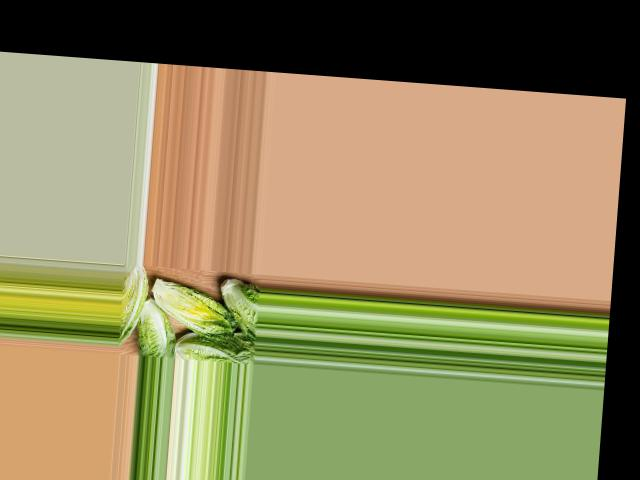lettuce: (117, 265, 151, 346)
